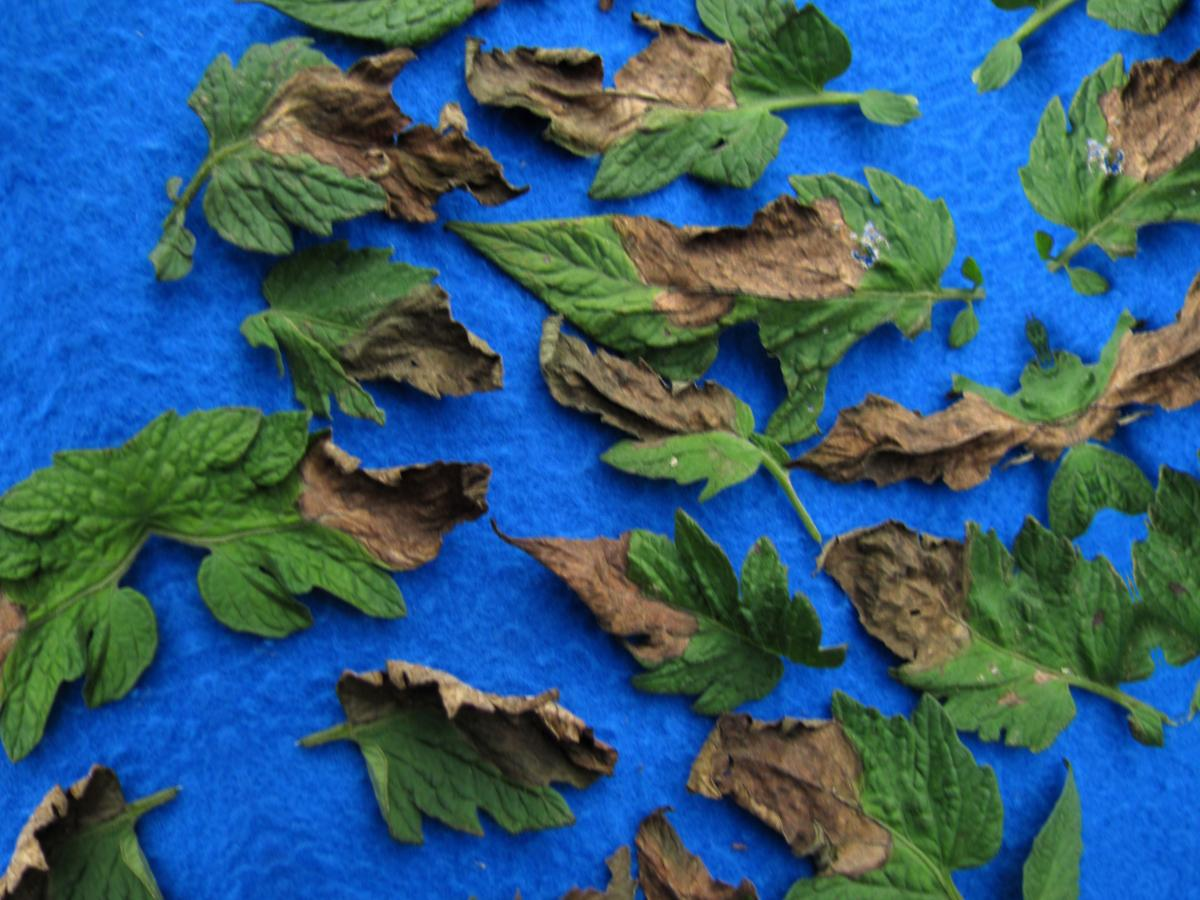Tomato leaf late blight: (474, 71, 983, 457), (109, 301, 523, 684), (98, 0, 535, 333), (818, 444, 1178, 823), (449, 0, 916, 260), (299, 574, 647, 899), (535, 444, 851, 765), (227, 166, 530, 491), (517, 252, 804, 579), (244, 0, 726, 114), (604, 776, 814, 900), (385, 840, 706, 900)
